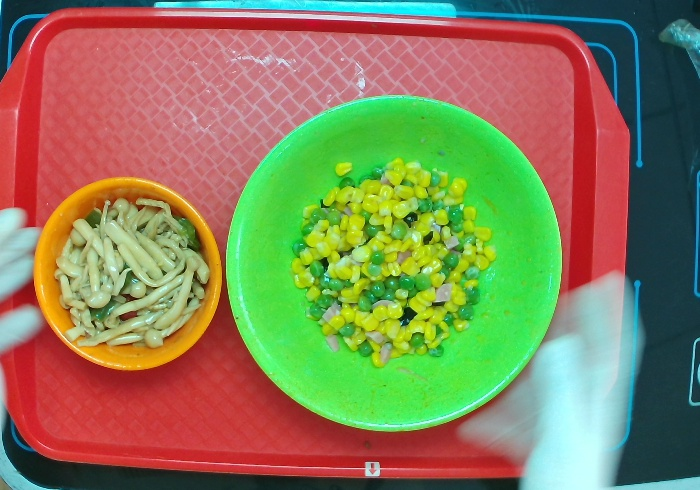YKMZ-Ju_Se_Yuan_Wan: (27, 169, 229, 373)
YKMZ-Lv_Se_Tang_Wan: (215, 86, 565, 433)
